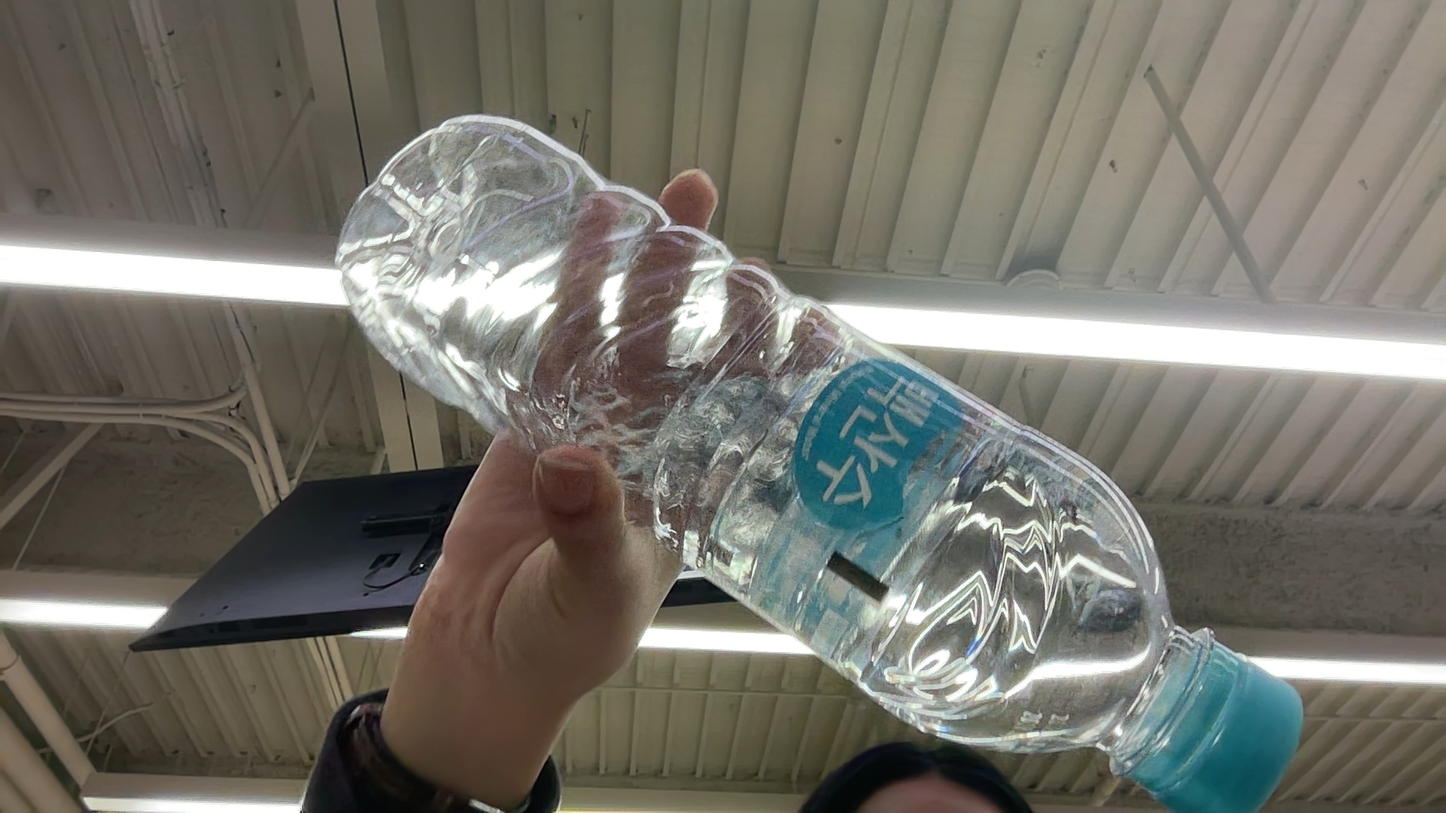Plastic: (318, 90, 1284, 813)
